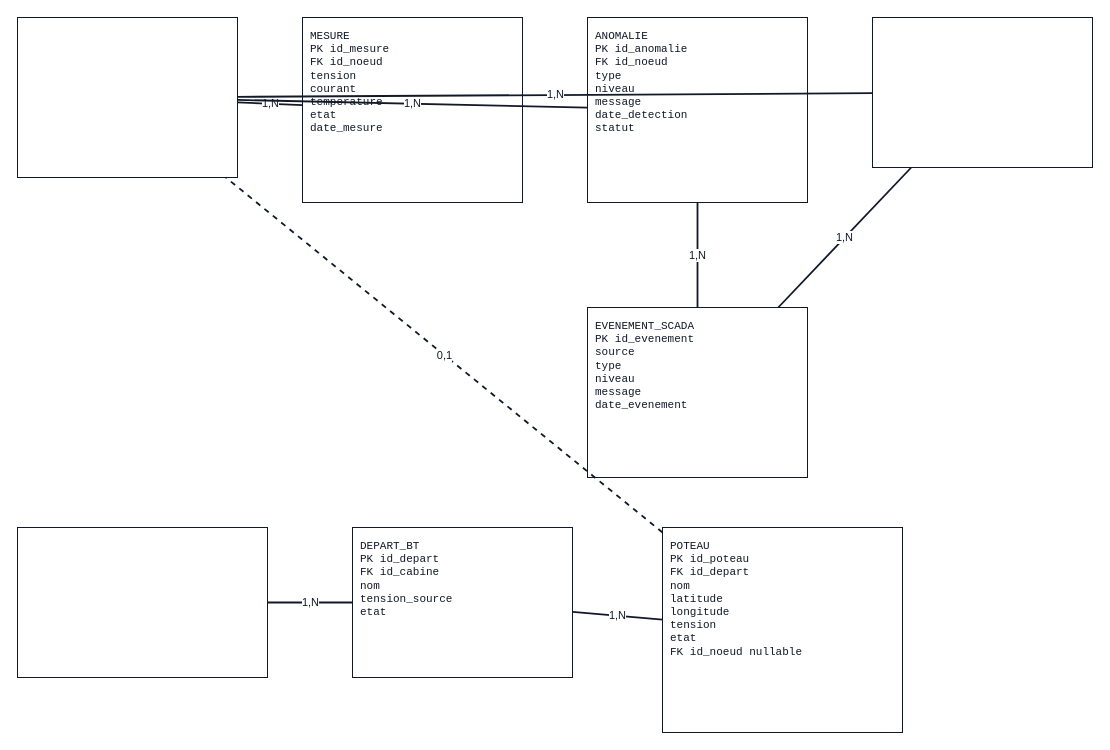
Some shapes in this 1110 by 750 pixel diagram are drawn without their labels. The centre of each missing label's shape, as x and y in pixels:
CABINE PK id_cabine nom puissance_nominale_kva charge_actuelle_kva etat: pixel 142 602
COMMANDE PK id_commande FK id_noeud type_commande statut date_commande: pixel 982 92
NOEUD PK id_noeud nom type latitude longitude statut: pixel 127 97
